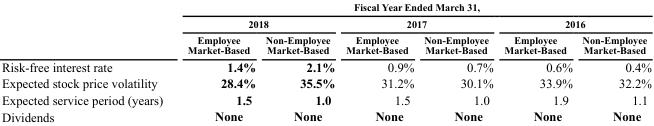table: (0, 0, 650, 123)
table column: (0, 0, 174, 123), (174, 0, 259, 123), (259, 0, 339, 123), (418, 0, 498, 123), (339, 0, 418, 123), (498, 0, 576, 123), (576, 0, 650, 123)
table column header: (0, 0, 650, 57)
table row: (0, 31, 650, 57), (0, 14, 650, 31), (0, 57, 650, 74), (0, 74, 650, 91), (0, 91, 650, 107), (0, 107, 650, 123), (0, 0, 650, 14)
table spanning cell: (174, 0, 650, 14), (174, 14, 339, 31), (339, 14, 498, 31), (498, 14, 650, 31)
